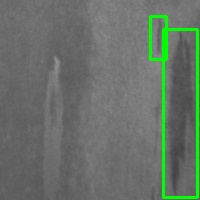inclusion: (163, 29, 197, 197), (150, 16, 166, 59)
